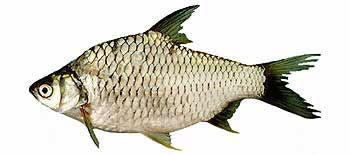Silver Barb: (28, 4, 326, 145)
